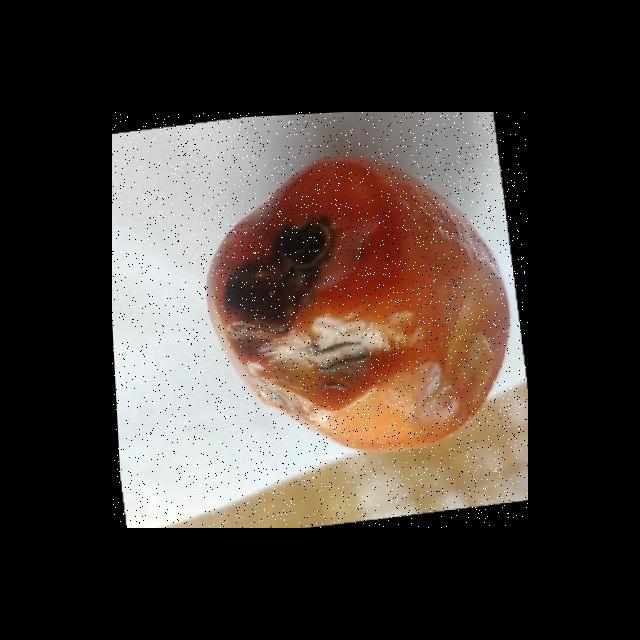tomato: (192, 146, 509, 457)
